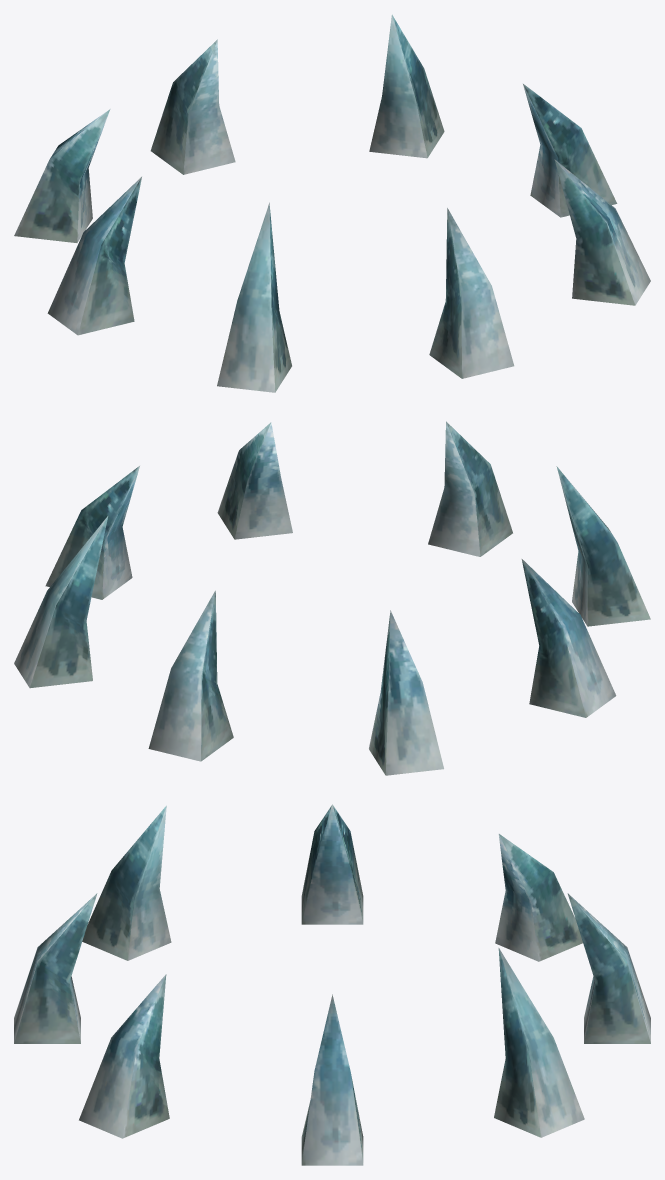
Rendered from rzjd_shuijing_02.FBX.
3 renders of one model, top to bottom at view 1: azimuth 30°, elevation 25°; view 2: azimuth 150°, elevation 25°; view 3: azimuth 270°, elevation 25°, orthographic. The views are drawn at different scales.
Parts seen in each view (by area): view 1: rzjd_shuijing_03, rzjd_shuijing_09, rzjd_shuijing_02, rzjd_shuijing_08, rzjd_shuijing_05, rzjd_shuijing_06, rzjd_shuijing_04, rzjd_shuijing_07; view 2: rzjd_shuijing_03, rzjd_shuijing_06, rzjd_shuijing_05, rzjd_shuijing_04, rzjd_shuijing_09, rzjd_shuijing_02, rzjd_shuijing_08, rzjd_shuijing_07; view 3: rzjd_shuijing_06, rzjd_shuijing_08, rzjd_shuijing_02, rzjd_shuijing_04, rzjd_shuijing_09, rzjd_shuijing_05, rzjd_shuijing_07, rzjd_shuijing_03.
Part boxes in pixels (<box>): rzjd_shuijing_03: <box>47,176,141,335</box>; rzjd_shuijing_09: <box>429,208,514,378</box>; rzjd_shuijing_02: <box>217,202,291,392</box>; rzjd_shuijing_08: <box>554,159,650,305</box>; rzjd_shuijing_05: <box>150,39,235,174</box>; rzjd_shuijing_06: <box>369,14,444,158</box>; rzjd_shuijing_04: <box>14,109,110,242</box>; rzjd_shuijing_07: <box>523,84,617,217</box>; rzjd_shuijing_03: <box>521,559,616,717</box>; rzjd_shuijing_06: <box>14,516,108,688</box>; rzjd_shuijing_05: <box>148,590,233,761</box>; rzjd_shuijing_04: <box>369,610,443,775</box>; rzjd_shuijing_09: <box>428,421,512,556</box>; rzjd_shuijing_02: <box>556,466,650,626</box>; rzjd_shuijing_08: <box>217,422,292,539</box>; rzjd_shuijing_07: <box>45,466,139,599</box>; rzjd_shuijing_06: <box>494,948,584,1137</box>; rzjd_shuijing_08: <box>79,974,169,1138</box>; rzjd_shuijing_02: <box>82,805,171,960</box>; rzjd_shuijing_04: <box>495,834,582,961</box>; rzjd_shuijing_09: <box>14,893,97,1043</box>; rzjd_shuijing_05: <box>567,893,650,1043</box>; rzjd_shuijing_07: <box>301,994,363,1165</box>; rzjd_shuijing_03: <box>301,804,363,924</box>.
Bounding box in the file's own units: 793 × 793 × 212.
